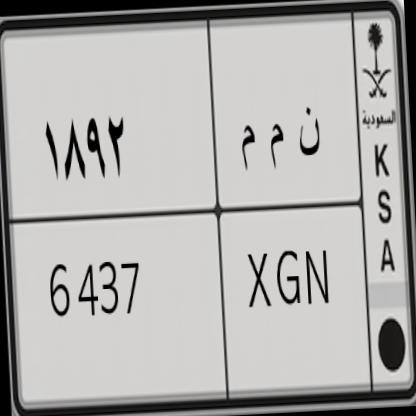english: (2, 179, 379, 412)
